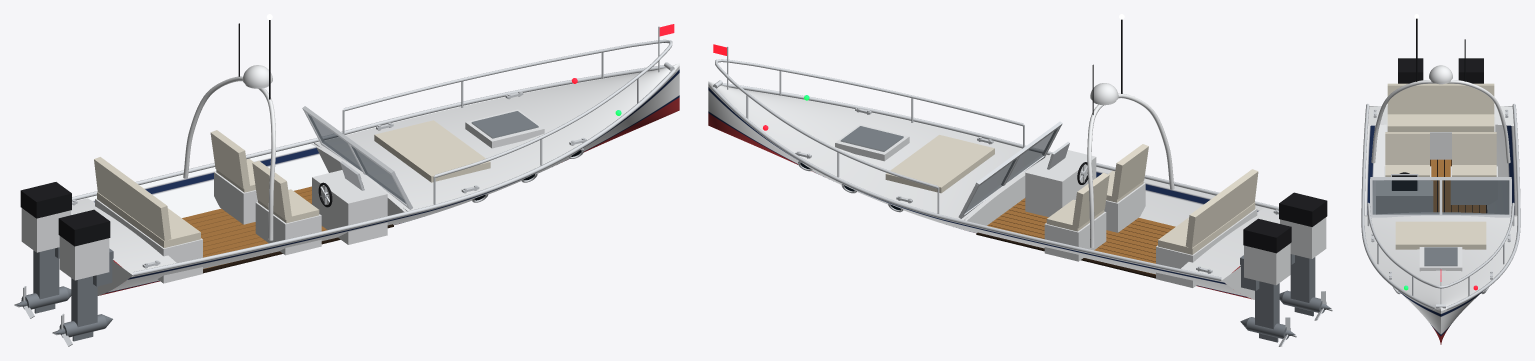
File: speedboat.glb
3 renders of one model, left to right at view 1: azimuth 30°, elevation 25°; view 2: azimuth 150°, elevation 25°; view 3: azimuth 270°, elevation 25°, orthographic. The views are drawn at different scales.
Visible parts, largest first — view 1: Speedboat, Foredeck, Outboard (×2), Hull, RubRail (×2), BowRail, SternDeck, RadarArch; view 2: Speedboat, Foredeck, Outboard (×2), Hull, RubRail (×2), BowRail, SternDeck, RadarArch, CockpitBulkhead; view 3: Speedboat, Foredeck, Hull, RubRail (×2), Outboard (×2), RadarArch, BowRail, SternDeck.
Boxes of the visible parts, box(x1,y1,x2,y2) form: Speedboat: box(72, 14, 674, 283); Foredeck: box(311, 63, 679, 211); Outboard (×2): box(14, 182, 113, 346); Hull: box(76, 66, 679, 295); RubRail (×2): box(72, 65, 675, 275); BowRail: box(343, 39, 672, 177); SternDeck: box(71, 198, 176, 276); RadarArch: box(183, 76, 275, 240); Speedboat: box(713, 14, 1278, 287); Foredeck: box(708, 81, 1047, 220); Outboard (×2): box(1240, 192, 1332, 346); Hull: box(708, 84, 1274, 299); RubRail (×2): box(712, 83, 1278, 281); BowRail: box(715, 59, 1023, 188); SternDeck: box(1181, 208, 1279, 280); RadarArch: box(1087, 93, 1174, 247); CockpitBulkhead: box(964, 175, 1025, 225); Speedboat: box(1367, 14, 1514, 308); Foredeck: box(1364, 212, 1517, 310); Hull: box(1365, 124, 1516, 344); RubRail (×2): box(1361, 103, 1520, 309); Outboard (×2): box(1398, 58, 1483, 83); RadarArch: box(1371, 80, 1510, 163); BowRail: box(1367, 202, 1514, 288); SternDeck: box(1368, 105, 1513, 125).
Size of the model in its own units: 9.78 by 3.99 by 2.63.
